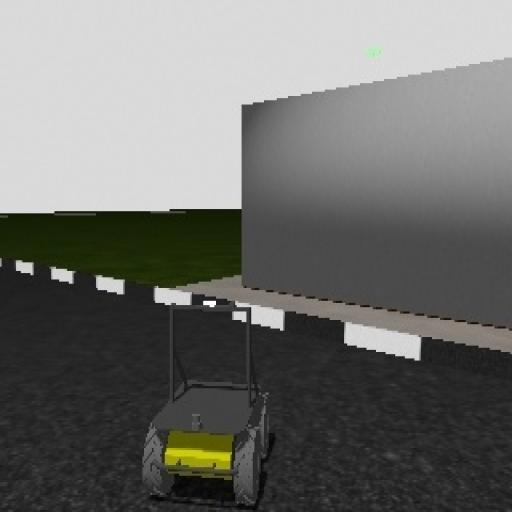huskya200: (140, 298, 276, 512)
